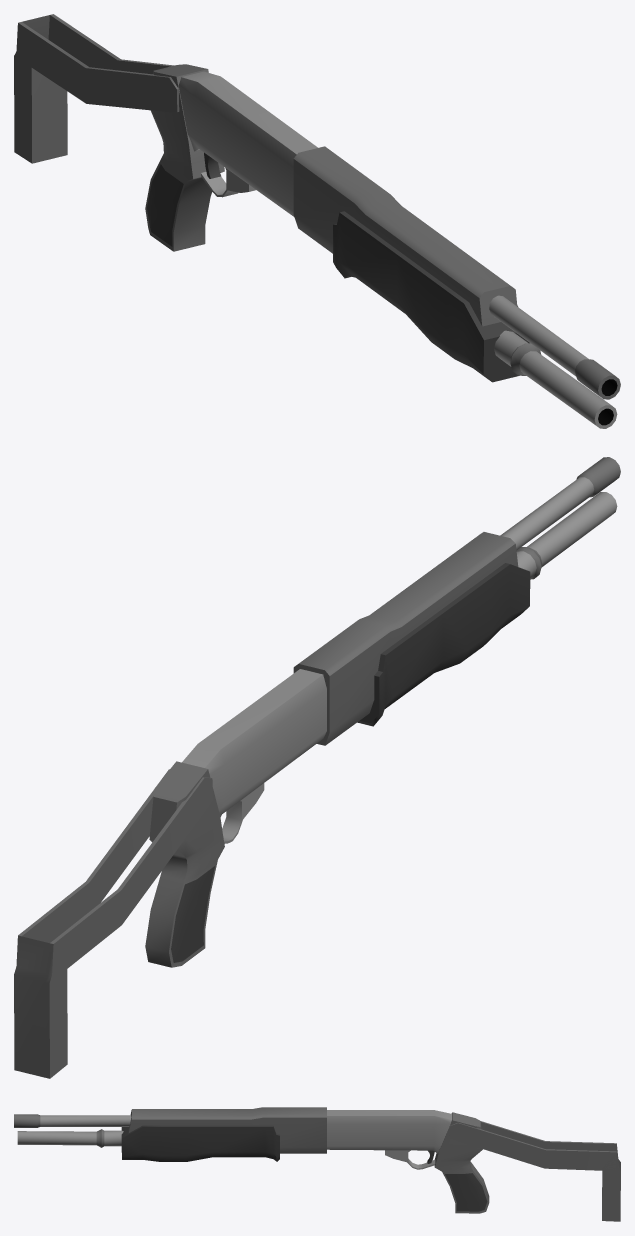
The model's file is 20-Tactical-shotgun.glb.
3 renders of one model, top to bottom at view 1: azimuth 30°, elevation 25°; view 2: azimuth 150°, elevation 25°; view 3: azimuth 270°, elevation 25°, orthographic. The views are drawn at different scales.
Parts seen in each view (by area): view 1: Tactical shotgun; view 2: Tactical shotgun; view 3: Tactical shotgun.
Part boxes in pixels (x1,y1,x2,y2): Tactical shotgun: (14,14,620,428); Tactical shotgun: (14,457,620,1078); Tactical shotgun: (14,1107,620,1221).
Bounding box in the file's own units: 0.0482 × 0.2016 × 1.04.
1 material, 1 textured.
